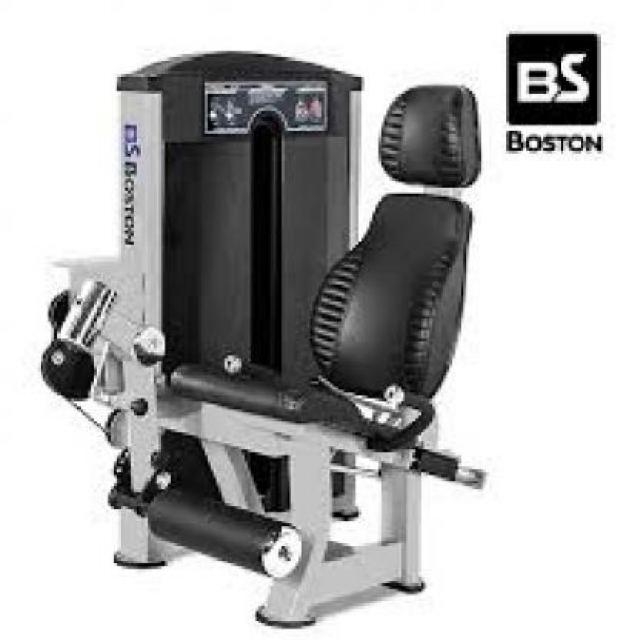leg extension: (26, 35, 508, 636)
